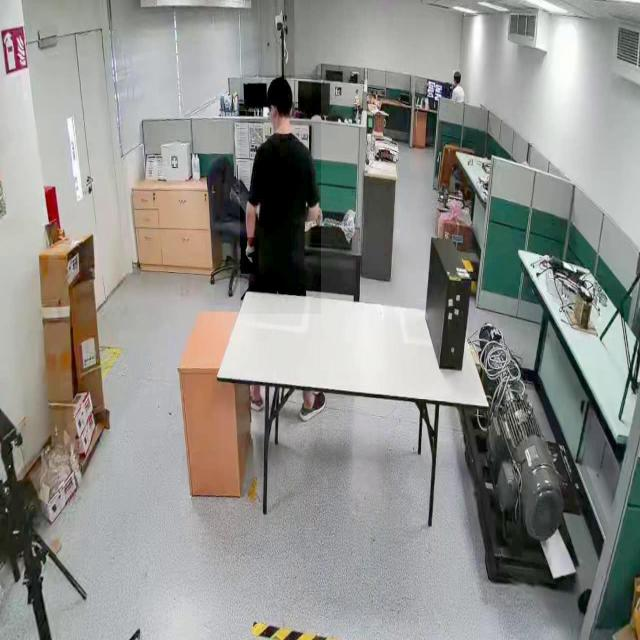hand_glove: (241, 237, 259, 275)
head_nohelmet: (266, 76, 292, 95), (453, 70, 461, 78)
person: (240, 74, 322, 314)
shoes: (298, 387, 326, 423)
